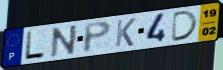4: (144, 12, 170, 46)
D: (169, 9, 200, 43)
K: (114, 17, 138, 49)
L: (23, 30, 46, 61)
N: (50, 23, 80, 58)
P: (83, 20, 113, 54)
